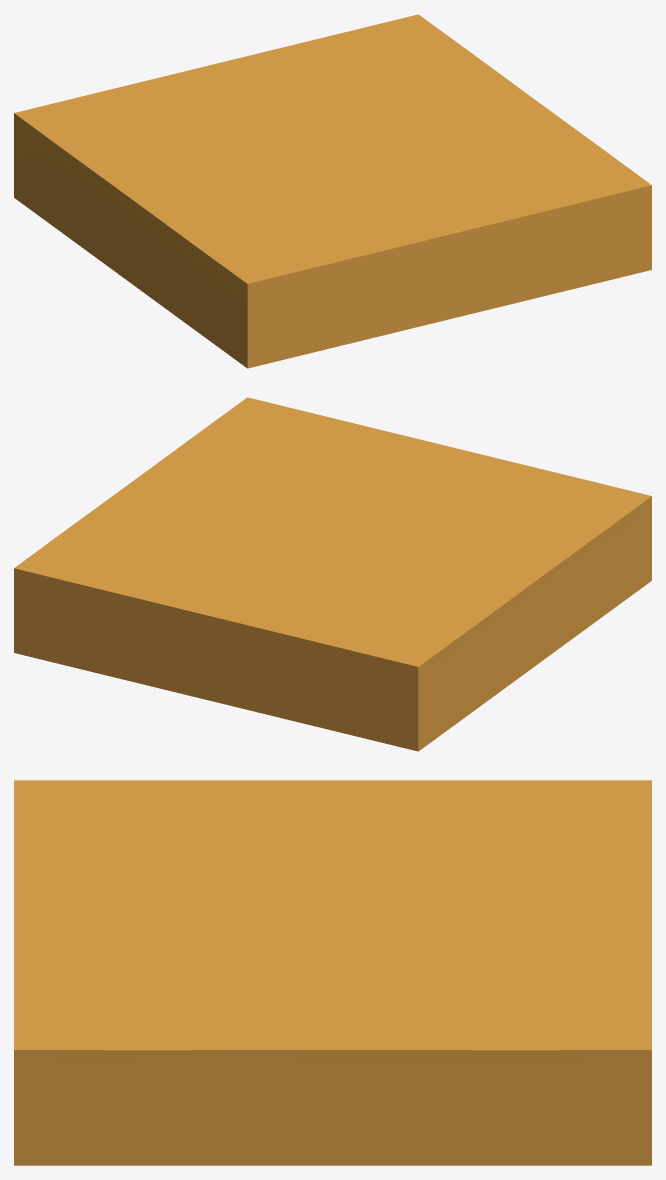
The model's file is tile-runway-intersection-t.glb.
3 renders of one model, top to bottom at view 1: azimuth 30°, elevation 25°; view 2: azimuth 150°, elevation 25°; view 3: azimuth 270°, elevation 25°, orthographic. The views are drawn at different scales.
Visible parts, largest first — view 1: tile-runway-intersection-t; view 2: tile-runway-intersection-t; view 3: tile-runway-intersection-t.
Part boxes in pixels (x1,y1,x2,y2): tile-runway-intersection-t: (14,14,651,368); tile-runway-intersection-t: (14,397,651,751); tile-runway-intersection-t: (14,780,651,1165).
Size of the model in its own units: 30.03 by 6 by 30.
